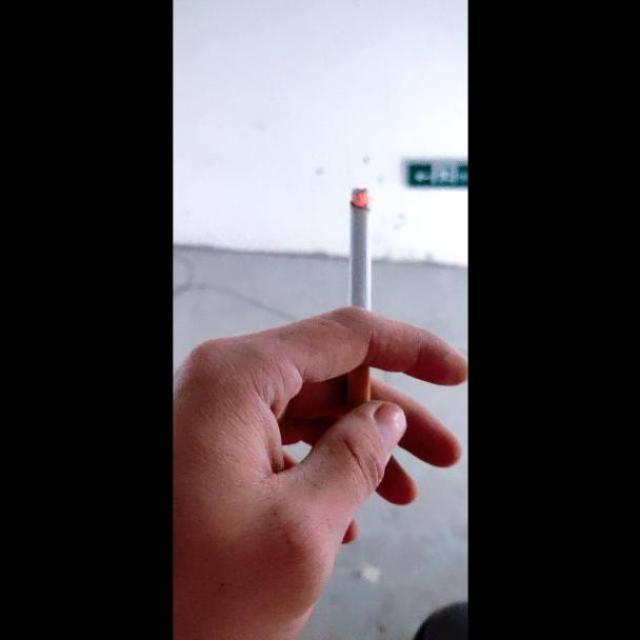rokok: (348, 185, 376, 408)
